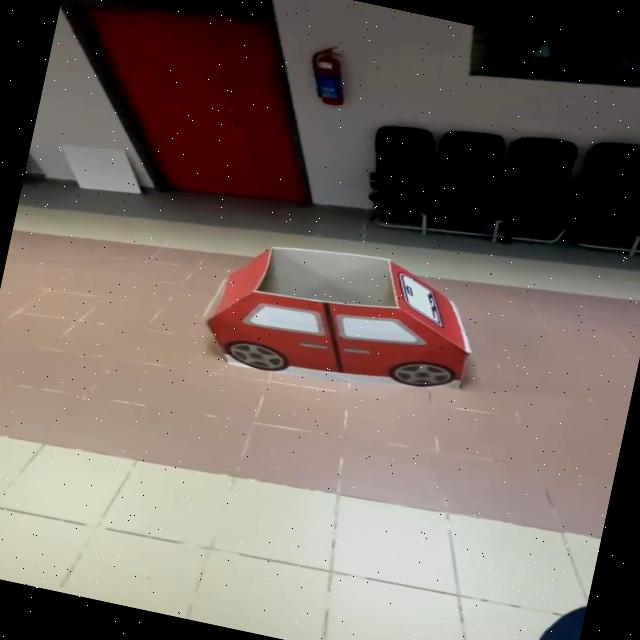red_car: (151, 204, 523, 431)
